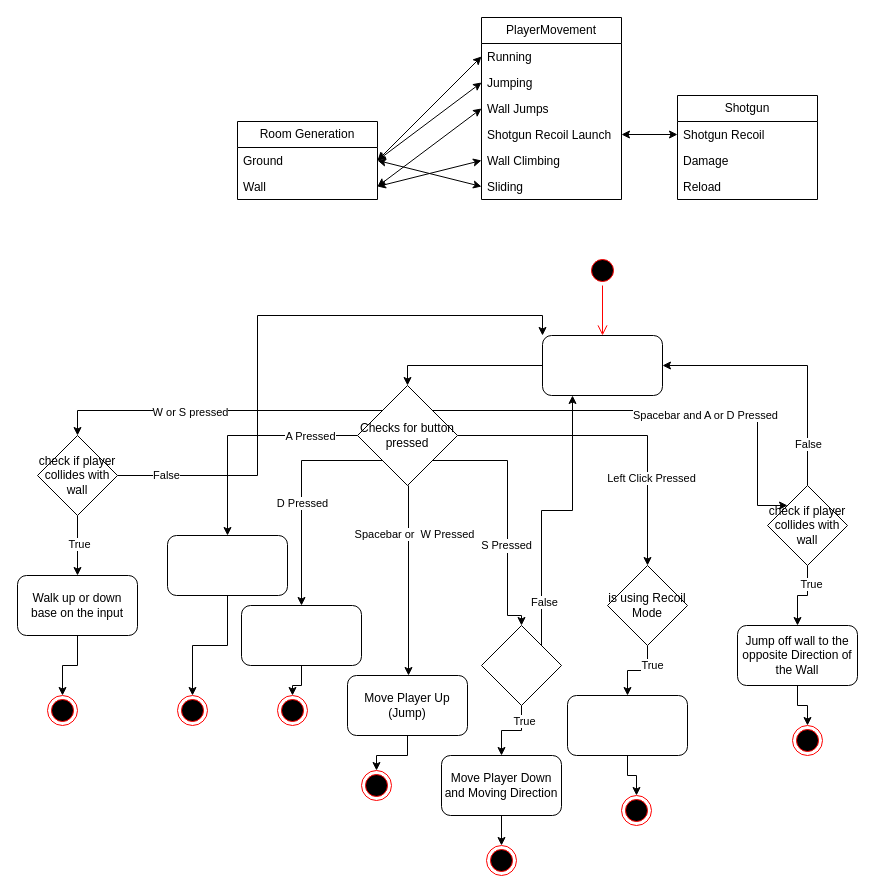
Image size: 875x893. Some labels were removed from this diagram. The shapes that lost their labels are listed below. From the top down, each one's centre as x and y in pixels, then its label:
At point 602,365: "Check for Input".
At point 227,565: "Move Player Left".
At point 301,635: "Move Player Right".
At point 521,665: "is player moving".
At point 627,725: "Launch Player Opposite Direction".
